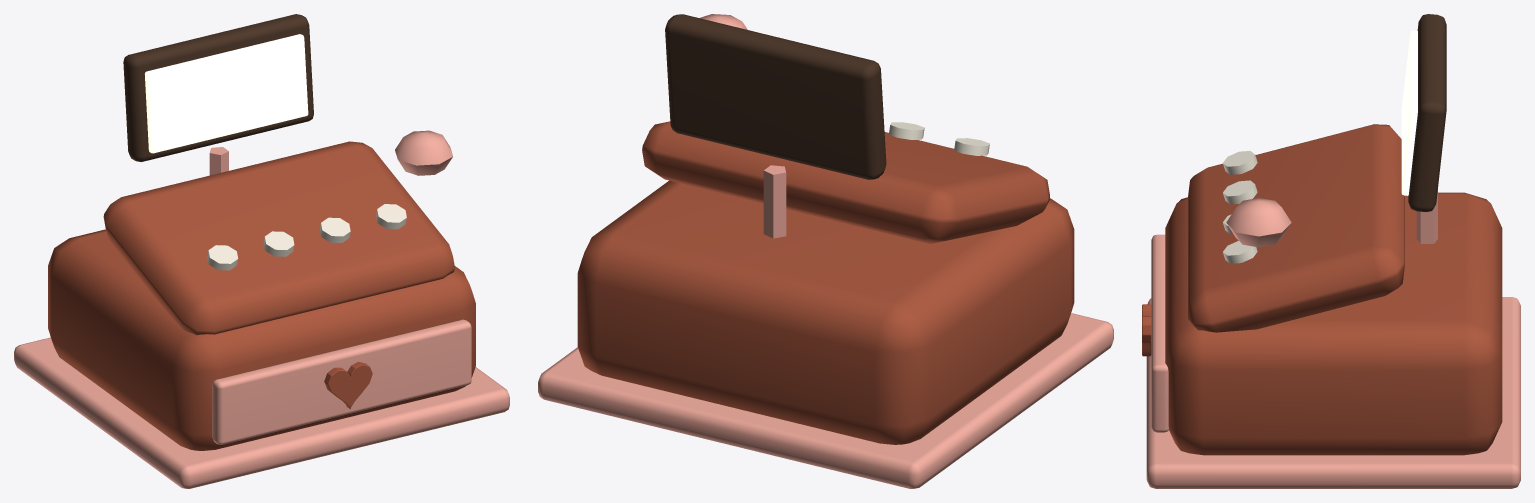
The model's file is register_retro.glb.
The picture shows the model from 3 angles, left to right: view 1: azimuth 30°, elevation 25°; view 2: azimuth 150°, elevation 25°; view 3: azimuth 270°, elevation 25°; orthographic projection. The views are drawn at different scales.
Visible parts, largest first — view 1: register_retro; view 2: register_retro; view 3: register_retro.
Boxes of the visible parts, x1,y1,x2,y2 form: register_retro: (14, 14, 509, 488); register_retro: (538, 14, 1113, 488); register_retro: (1142, 14, 1520, 488).
Bounding box in the file's own units: 0.44 × 0.4102 × 0.405.
